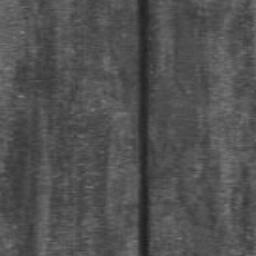Scratches: (137, 0, 150, 256)
